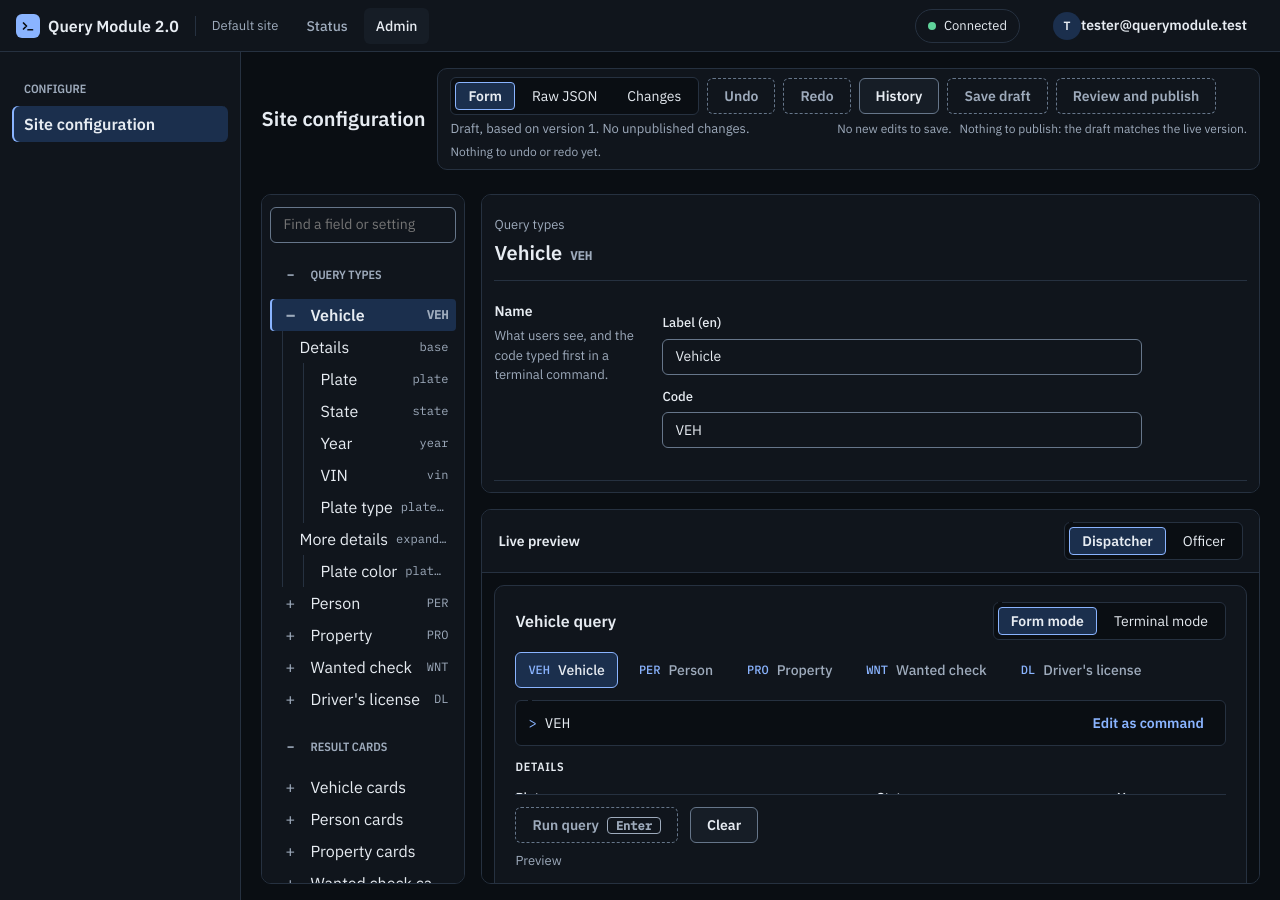
Test: A3 query type editor: ruled sections › a field reads as its label; its key is hidden text and sits under a closed Advanced
This screenshot has width=1280, height=900.
Expected: the tab "Form" is shown, [456,82,515,110]
Click the list item "Vehicle VEH" at (363, 314), box [270,298,456,330]
(page scrolled)
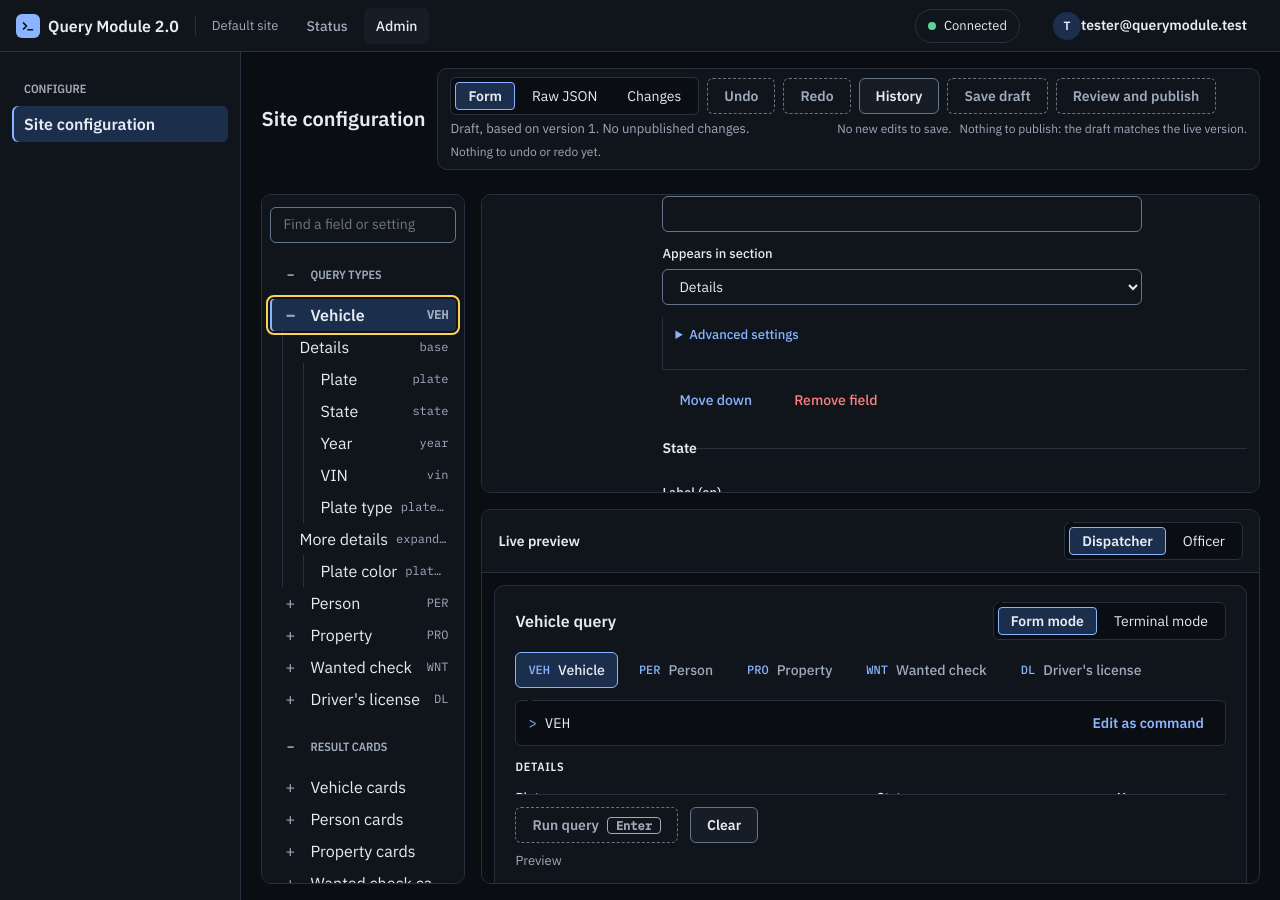
Expected: the text "Plate" is shown, [320,366,357,390]
Expected: the element named "Allowed pattern" is shown, [662,317,1247,370]
